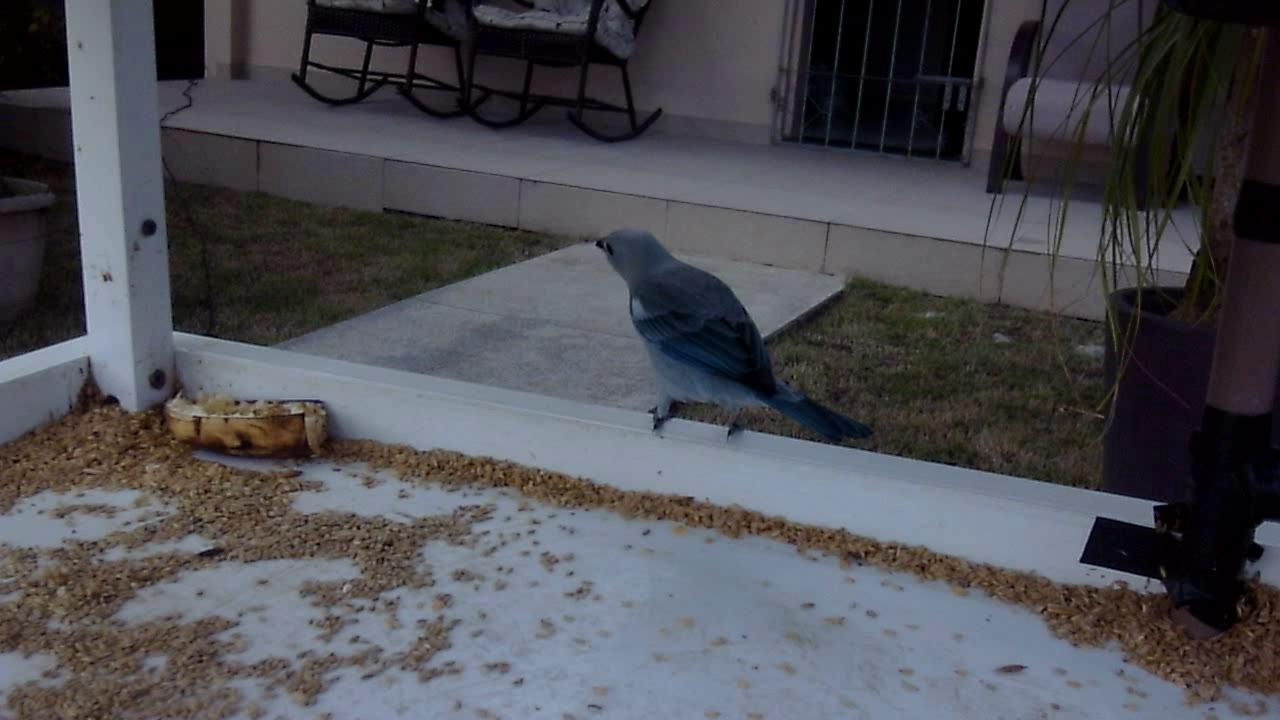sanhaco_da_amazonia: (584, 222, 871, 456)
